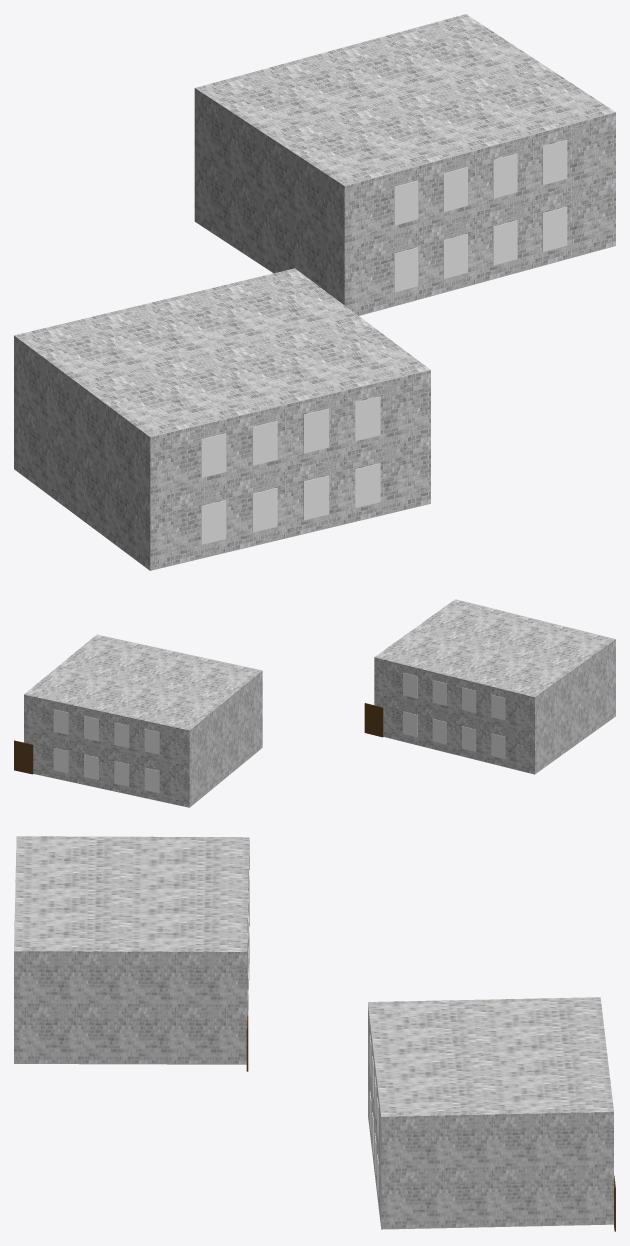
File: bld_mln5245c_kpt6wsf.glb
The picture shows the model from 3 angles, top to bottom: view 1: azimuth 30°, elevation 25°; view 2: azimuth 150°, elevation 25°; view 3: azimuth 270°, elevation 25°; orthographic projection. The views are drawn at different scales.
Visible parts, largest first — view 1: building-building-1771123005506-0, building-building-1771123015406-0, object 10, object 26, object 6, object 18, object 30, object 2, object 14, object 22, object 63, object 47 (+6 smaller); view 2: building-building-1771123005506-0, building-building-1771123015406-0, object 37, object 41, object 65, object 49, object 53, object 57, object 4, object 20, object 24, object 28 (+6 smaller); view 3: building-building-1771123015406-0, building-building-1771123005506-0.
Part boxes in pixels (x1,y1,x2,y2): building-building-1771123005506-0: (14, 268, 430, 570); building-building-1771123015406-0: (194, 14, 615, 315); object 10: (303, 475, 329, 520); object 26: (303, 408, 329, 453); object 6: (252, 488, 277, 532); object 18: (201, 433, 226, 477); object 30: (355, 396, 380, 440); object 2: (201, 500, 226, 544); object 14: (355, 463, 380, 507); object 22: (252, 421, 277, 465); object 63: (542, 140, 567, 184); object 47: (542, 206, 567, 251); building-building-1771123005506-0: (364, 599, 615, 774); building-building-1771123015406-0: (14, 634, 262, 807); object 37: (144, 767, 159, 793); object 41: (114, 761, 129, 786); object 65: (53, 709, 68, 734); object 49: (53, 748, 68, 773); object 53: (144, 729, 159, 754); object 57: (114, 722, 129, 747); object 4: (491, 733, 505, 759); object 20: (491, 694, 505, 720); object 24: (462, 687, 476, 713); object 28: (432, 680, 446, 705); building-building-1771123015406-0: (368, 997, 615, 1231); building-building-1771123005506-0: (14, 836, 249, 1071).
Size of the model in its own units: 34.38 by 6.43 by 30.99.
Materials: 10 (2 with a texture image).
